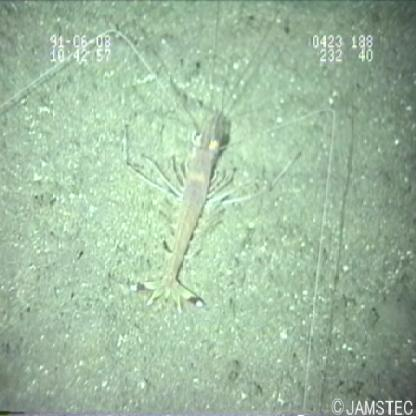Bio: (2, 26, 339, 402)
